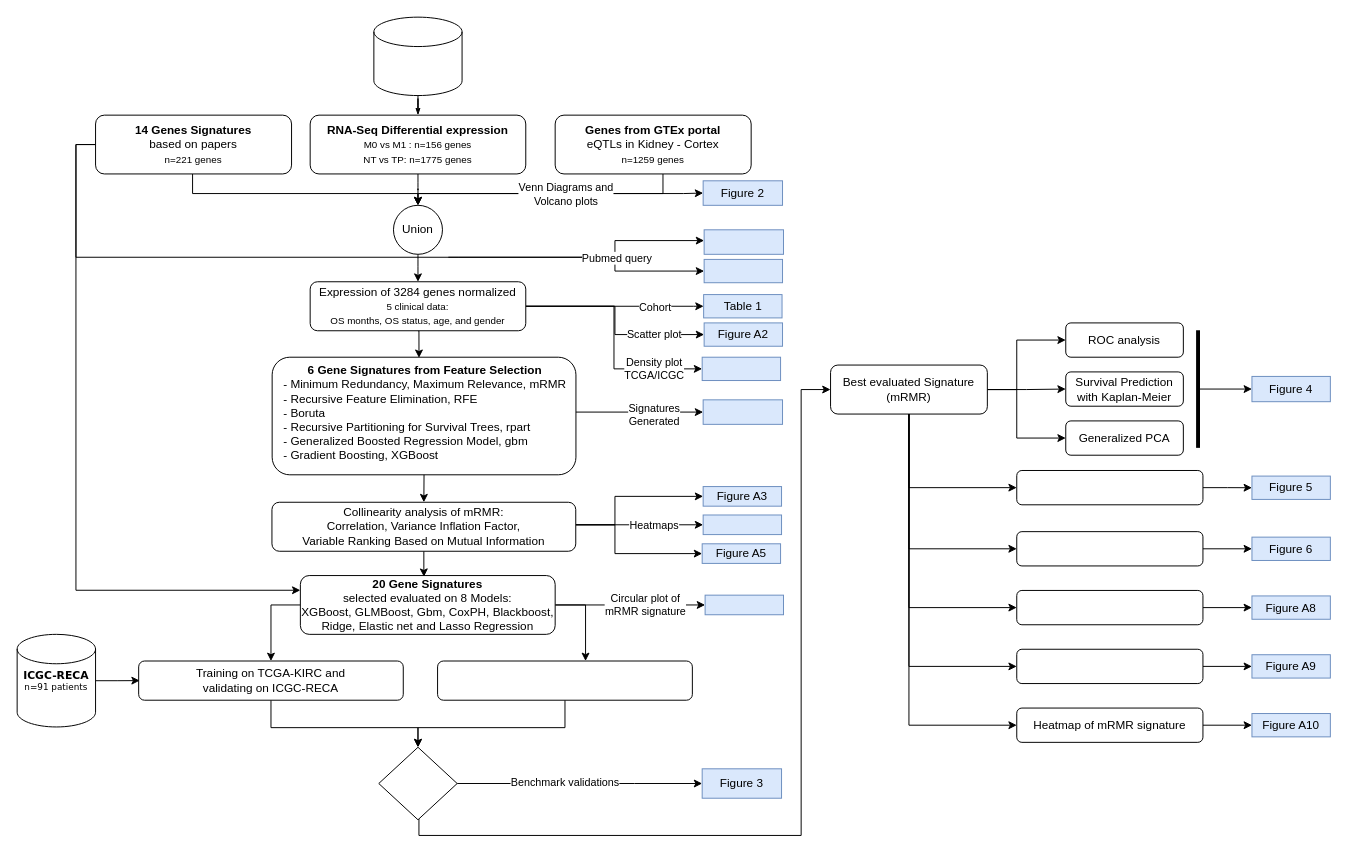
Image size: 1348x860. Some labels were removed from this diagram. Each missing label, with the centre of its shape:
Aalen's additive regression: the point at 1109,487
Box plot of protein expression by cancer stage from UALCAN: the point at 1109,666
Cross-validation in 3 folds on TCGA-KIRC: the point at 564,680
Evaluation auc: the point at 417,783
Figure A1: the point at 743,270
Figure A4: the point at 742,524
Figure A6: the point at 741,368
Figure A7: the point at 744,604
Forest Plot for Cox model: the point at 1109,607
Gene Enrichment Analysis: the point at 1109,548
Table A1: the point at 743,241
Table A3: the point at 742,411
TCGA-KIRC n=530 patients: the point at 417,56
